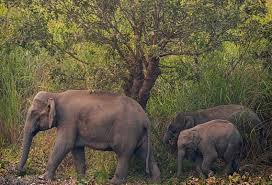Elephant: (15, 91, 165, 184)
